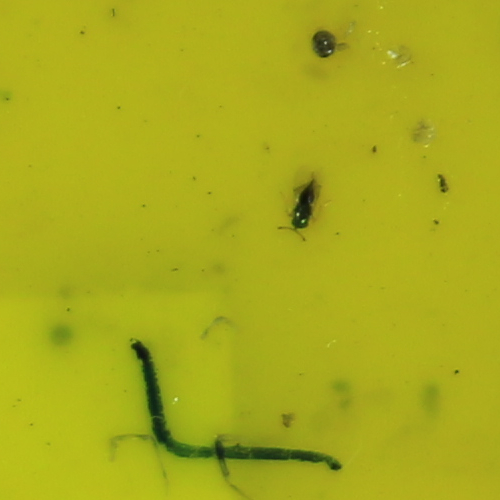Psyllaephagus: (287, 174, 320, 227)
